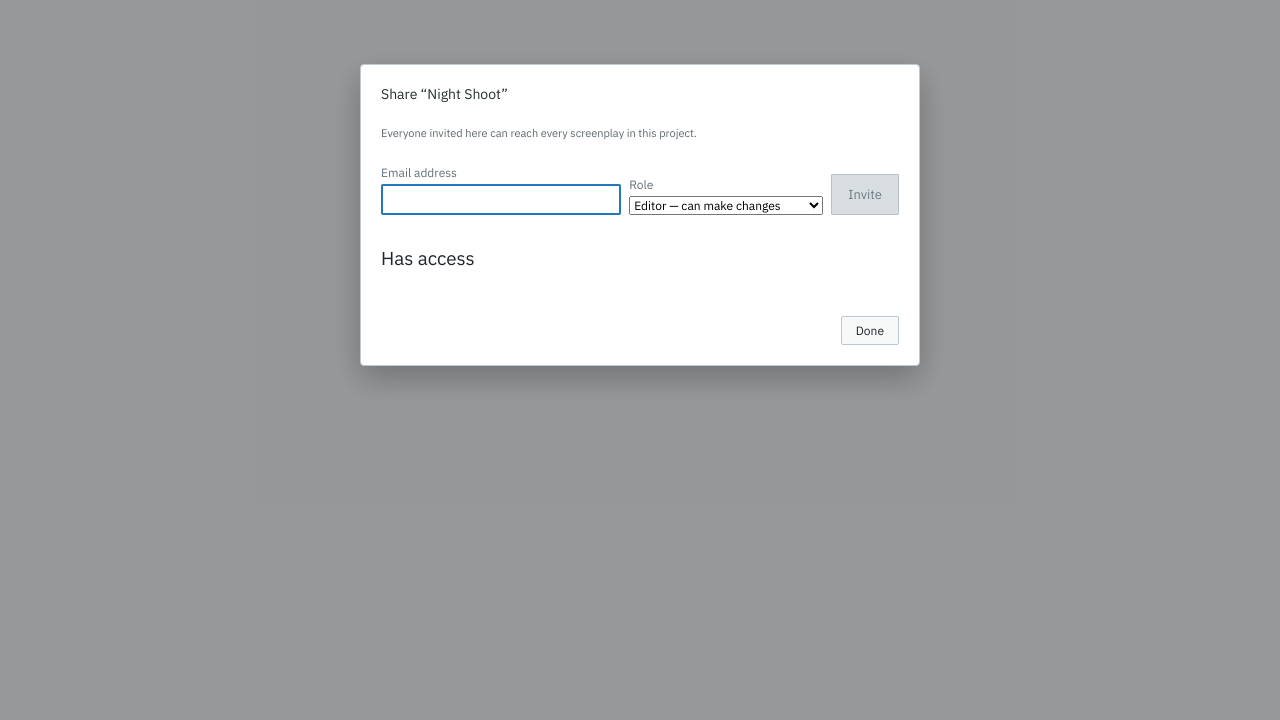
Test: the sharing dialog › reports a reused invitation as updated rather than claiming a fresh one was sent
Type "pending@example.test" into the field named "Invite by email address" at (501, 199), box x1=381 y1=184 x2=621 y2=215
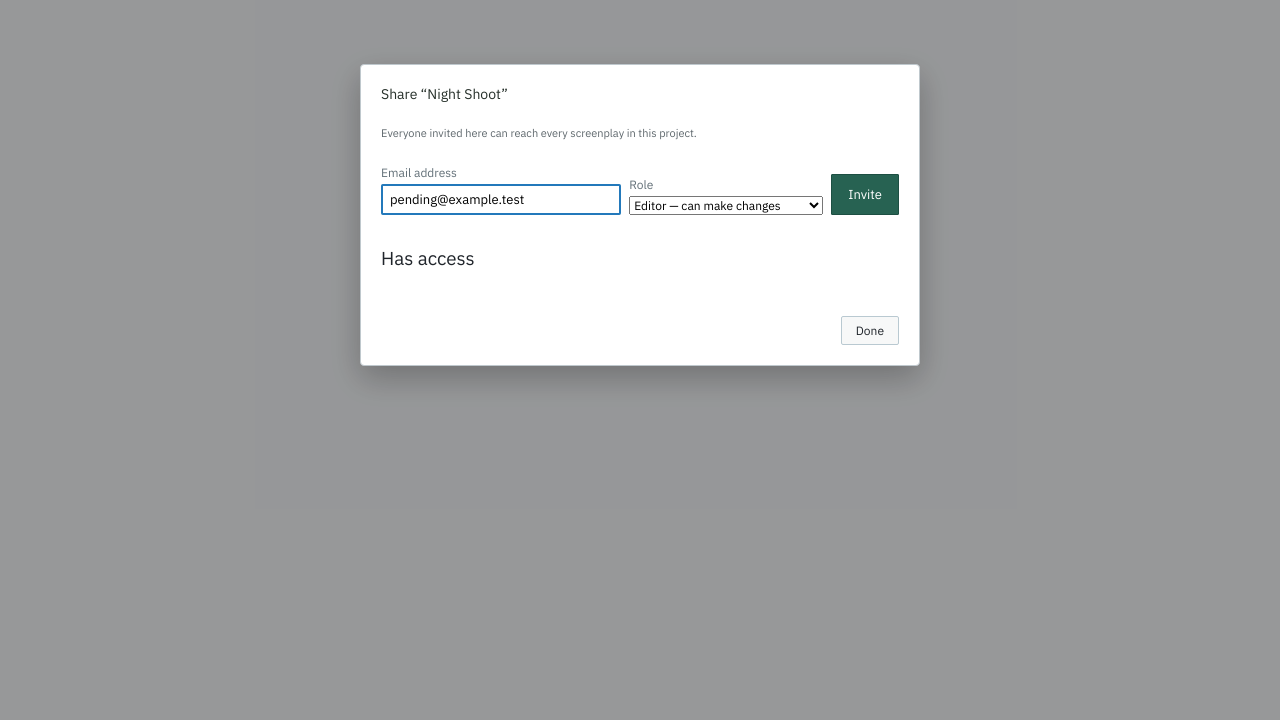
Click the button "Invite" at (865, 194), box x1=831 y1=174 x2=899 y2=215
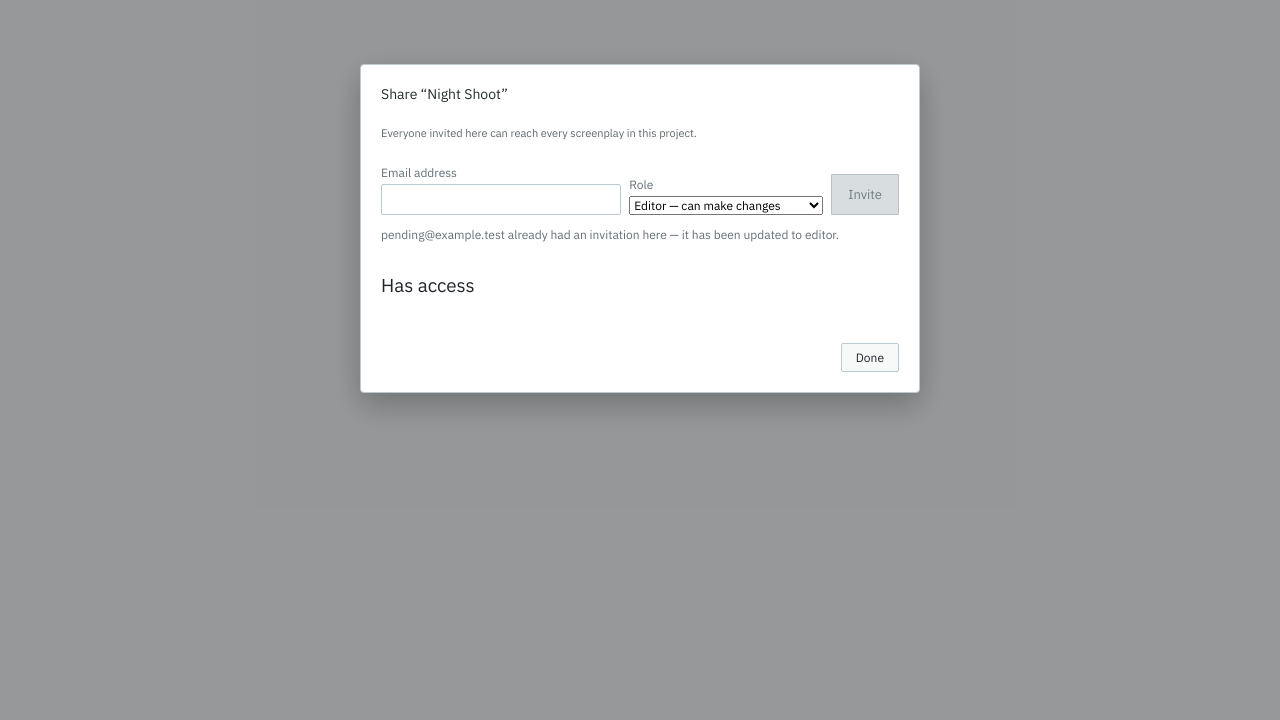
Now the message shows "already had an invitation here — it has been updated to editor", box x1=381 y1=227 x2=839 y2=242
